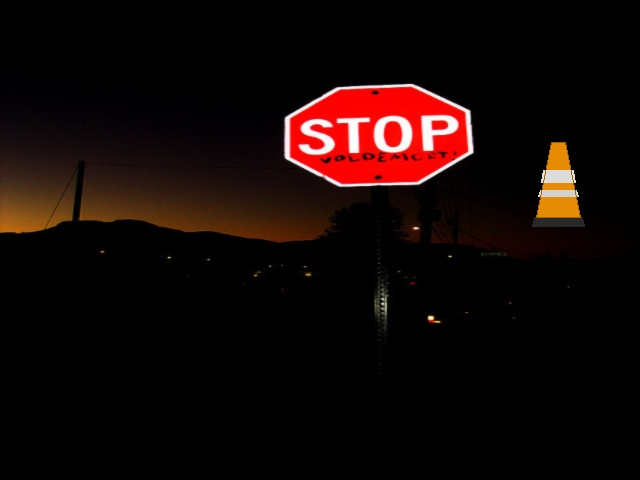traffic-cone: (532, 142, 584, 226)
